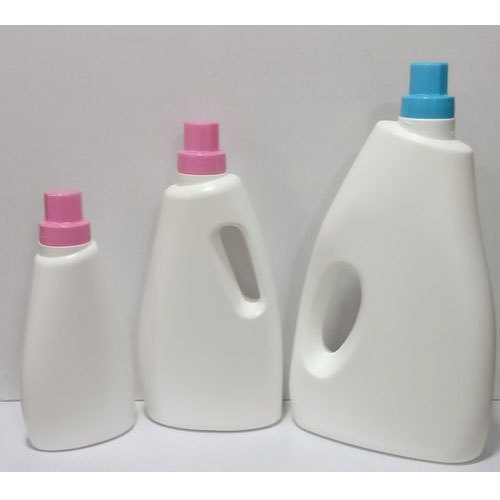plastic: (19, 63, 495, 465)
